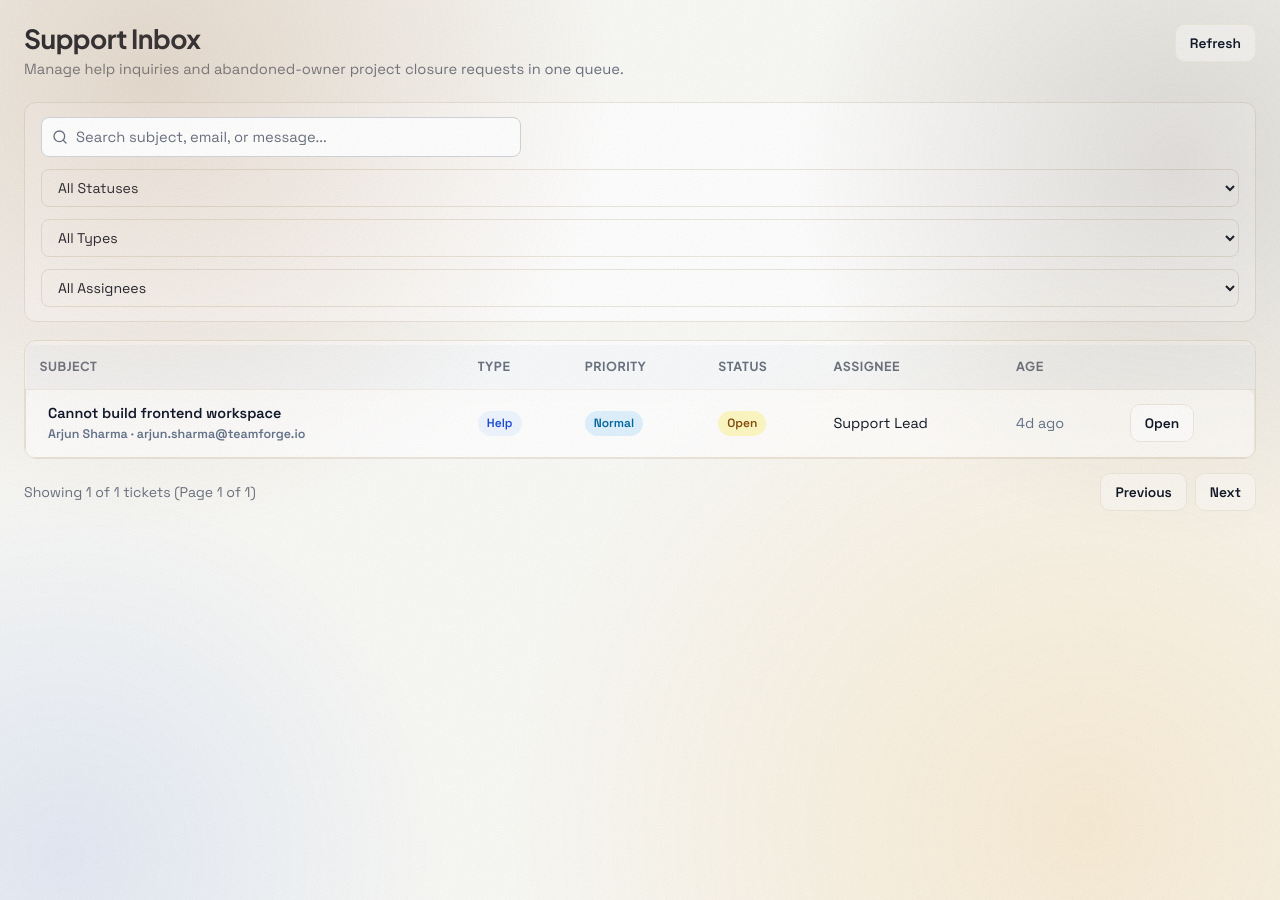
Step 4 Frontend Tests: Resolved or Rejected Support Tickets Must Be Read-Only › 4. Handles 409 TICKET_CLOSED by refreshing ticket to read-only view with error message
Expected: the row with test id "ticket-row-ticket-just-closed" is shown, [26, 389, 1254, 457]
Click the button with test id "open-ticket-ticket-just-closed": (1162, 423) [1130, 404, 1194, 442]
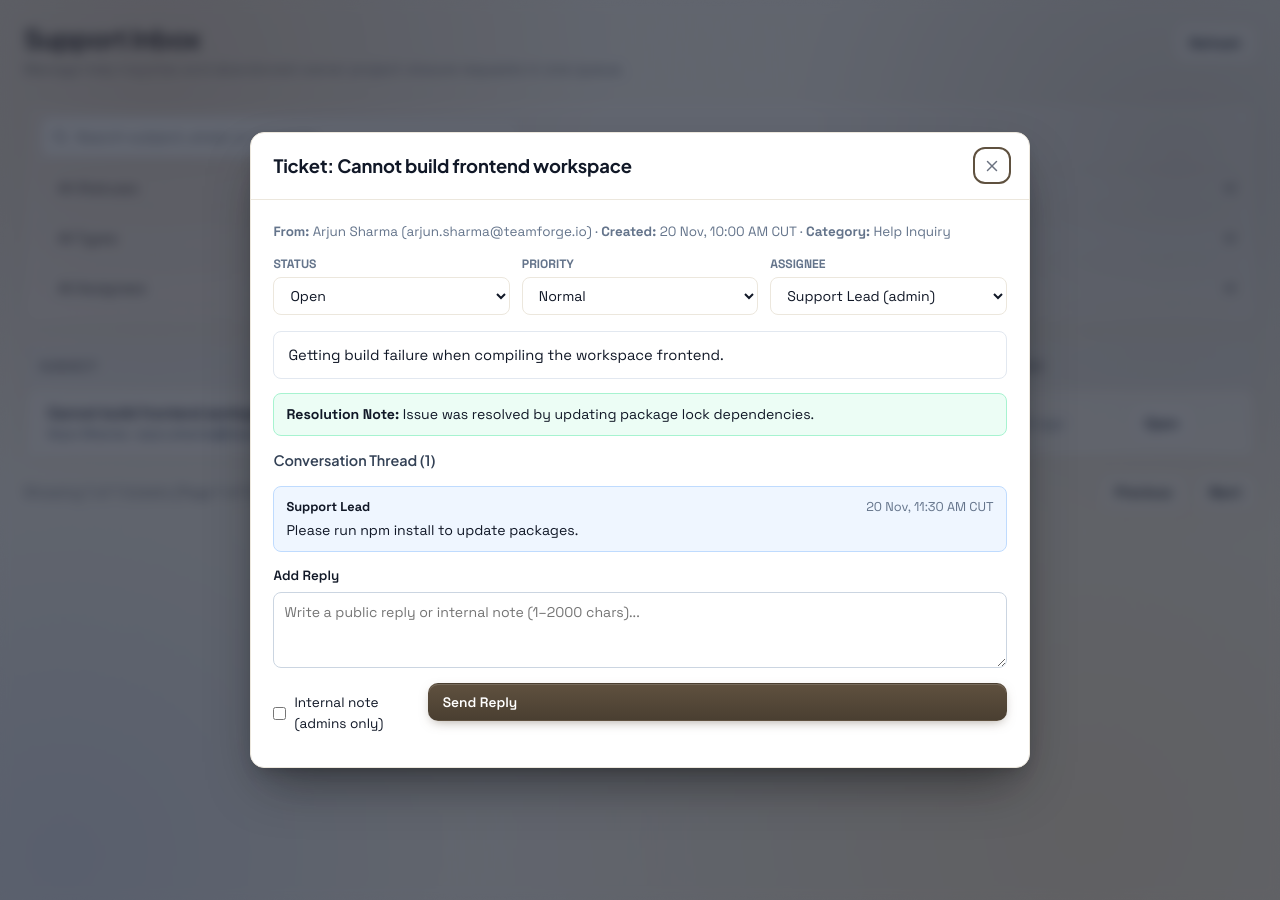
Expected: the dropdown with test id "ticket-priority-select" is shown
# Change priority
Select "High" in the dropdown with test id "ticket-priority-select": (640, 296) [522, 277, 758, 315]
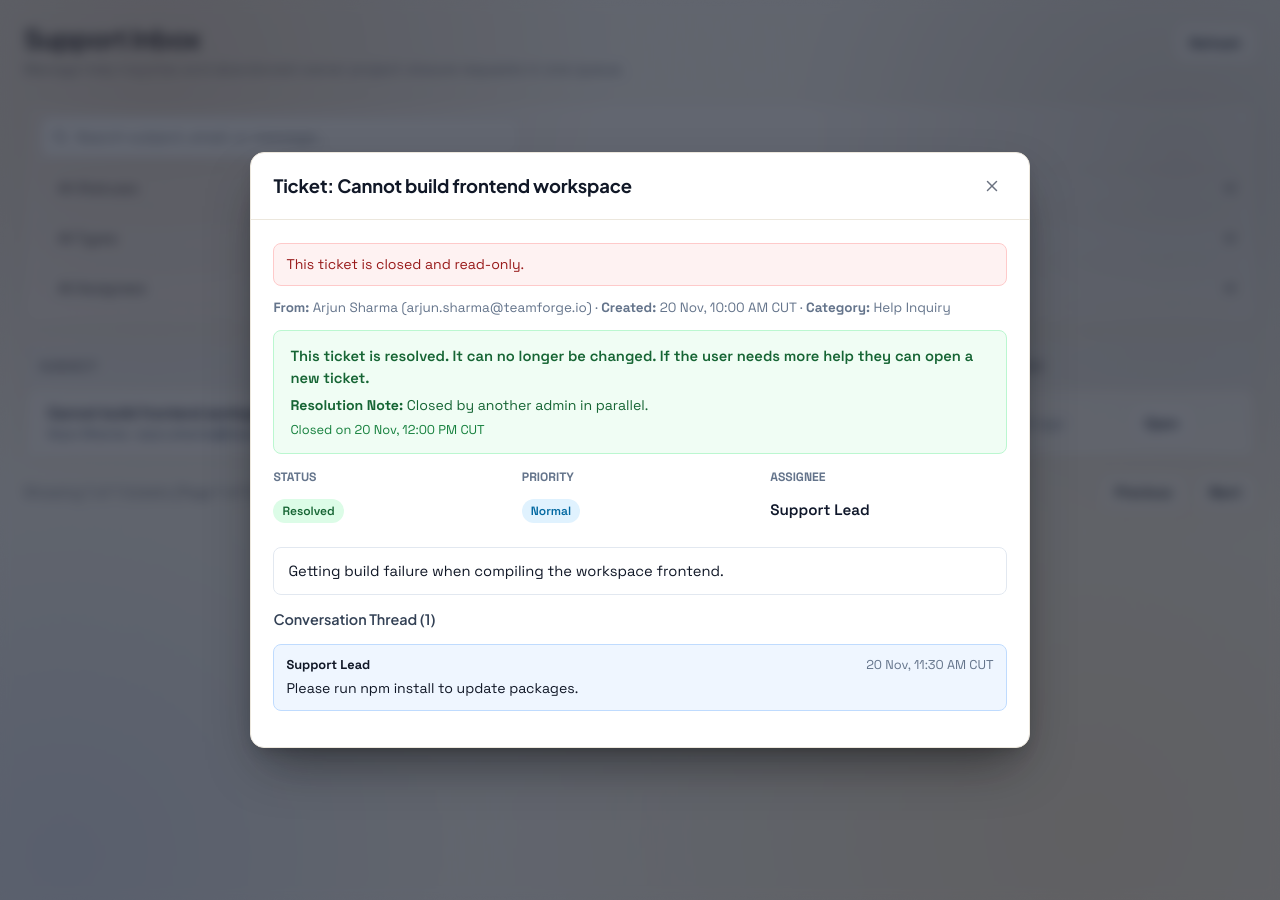
Expected: the message "This ticket is closed and read-only." is shown, [273, 243, 1007, 286]
Expected: the message with test id "drawer-error" reads "This ticket is closed and read-only.", [286, 255, 524, 273]
Expected: the element with test id "ticket-readonly-banner" is shown, [273, 330, 1007, 454]
